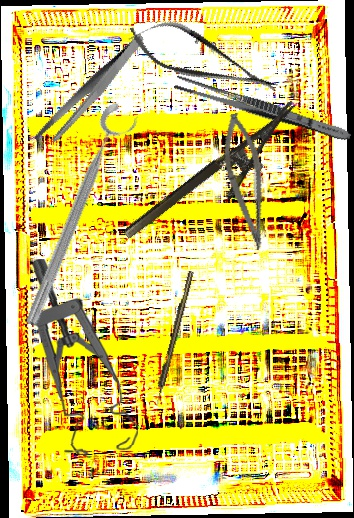Dressing Forceps: (16, 32, 166, 151), (172, 74, 354, 145)
Fixation Ring: (19, 99, 143, 334)
Hook Surgical: (152, 270, 195, 407)
Micro Scissor: (120, 6, 286, 113), (213, 110, 281, 253)
Needle Holder: (120, 99, 318, 263)
Speculum: (25, 258, 144, 458)
